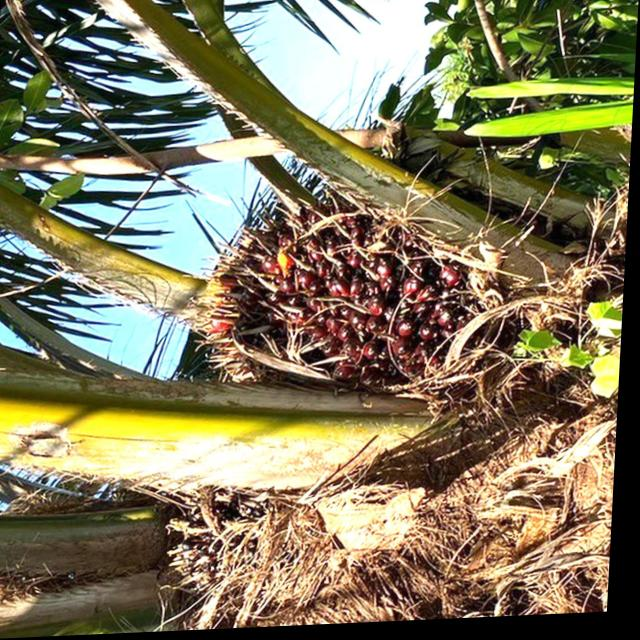ripe: (203, 206, 474, 395)
